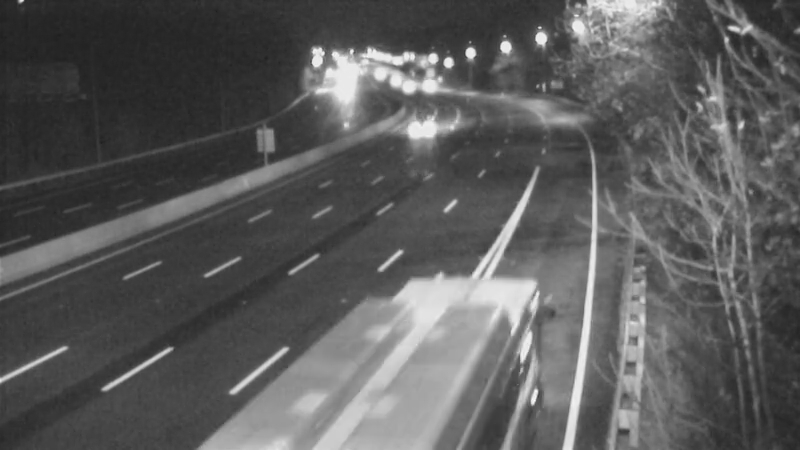vehicle: (336, 322, 446, 432), (353, 47, 403, 97), (367, 57, 417, 107), (379, 60, 429, 110), (403, 62, 453, 112), (398, 101, 448, 151), (319, 63, 369, 113)
